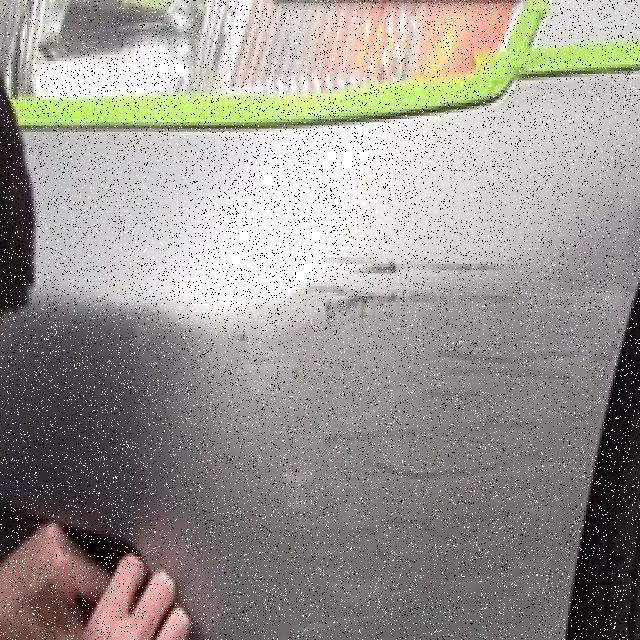front-bumper-dent: (9, 122, 638, 636)
